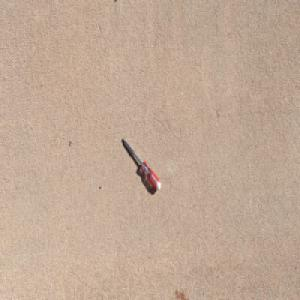Screwdriver: (121, 135, 162, 191)
